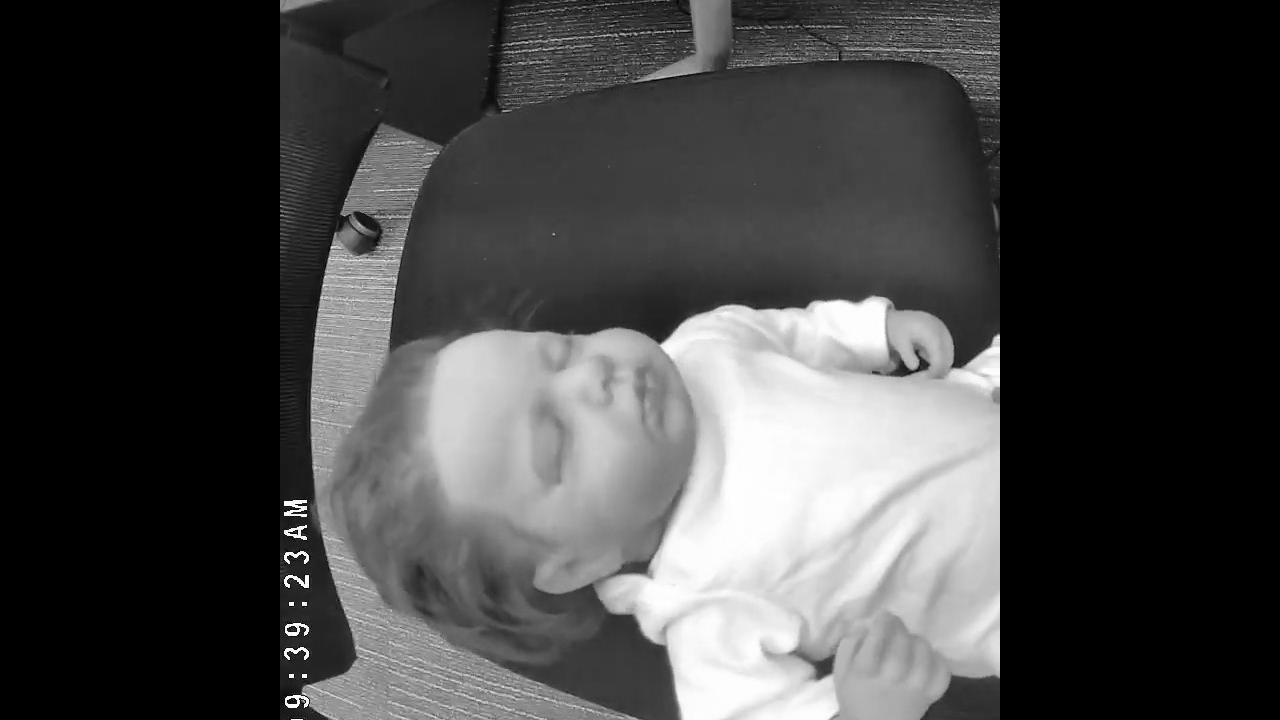hand: (833, 613, 951, 720), (891, 308, 953, 375)
